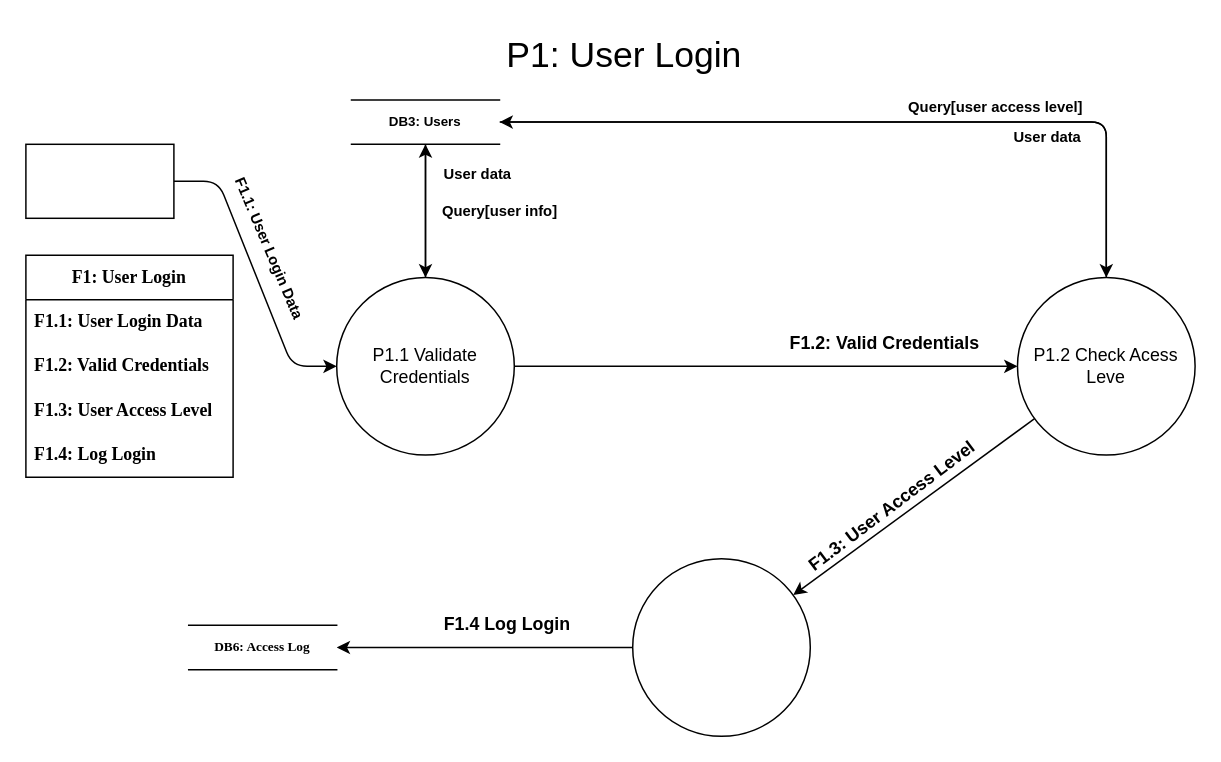
This 1221x762 diagram has some shape labels left out. The shapes that lost their labels are listed below. From the top down, each one's centre as x and y in pixels, then its label:
At point 99,180: "User".
At point 720,646: "P1.3 Grant/Deny Access".
